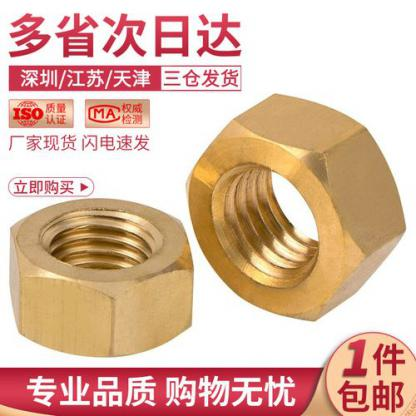FOD: (184, 92, 406, 326), (7, 196, 193, 358)
